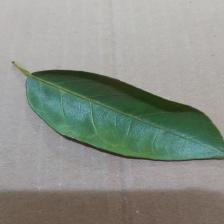greening: (23, 70, 155, 154)
